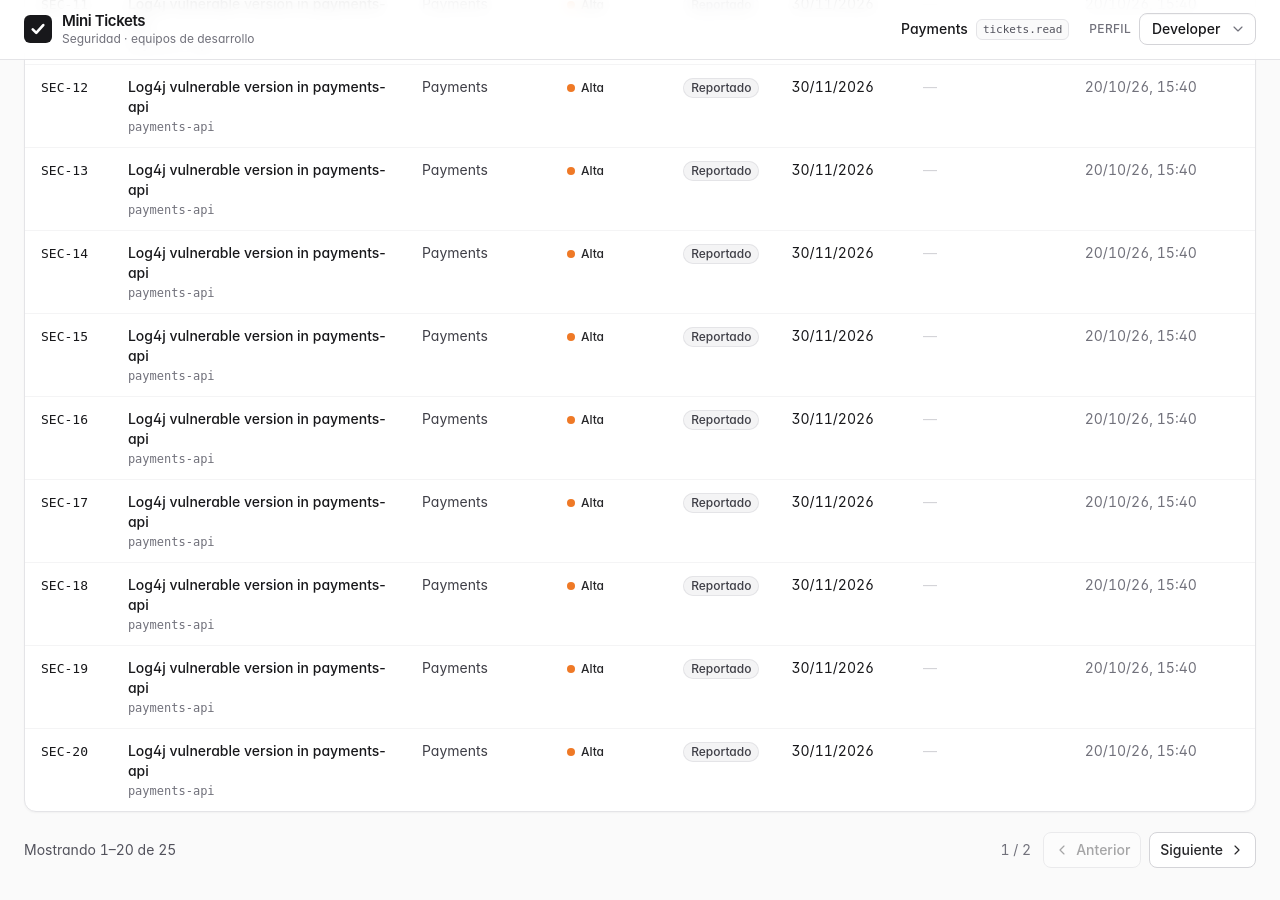
Test: the next page keeps the filters and loads the following tickets
(page scrolled)
Click the button "Siguiente". click: (1203, 850)
box: [1149,832,1256,868]
(page scrolled)
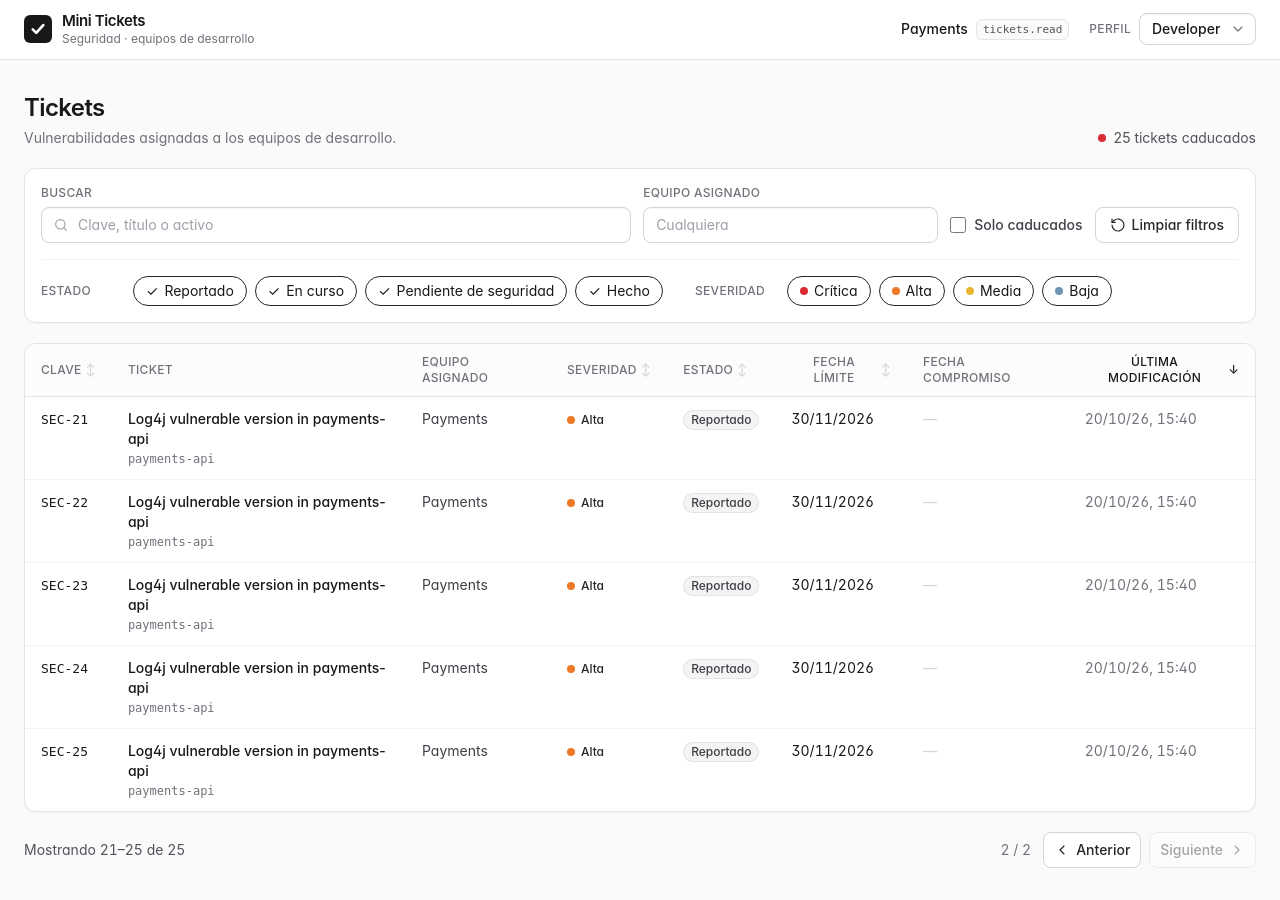
Check: the text "Mostrando 21–25 de 25" is shown, box [24,840,185,860]
